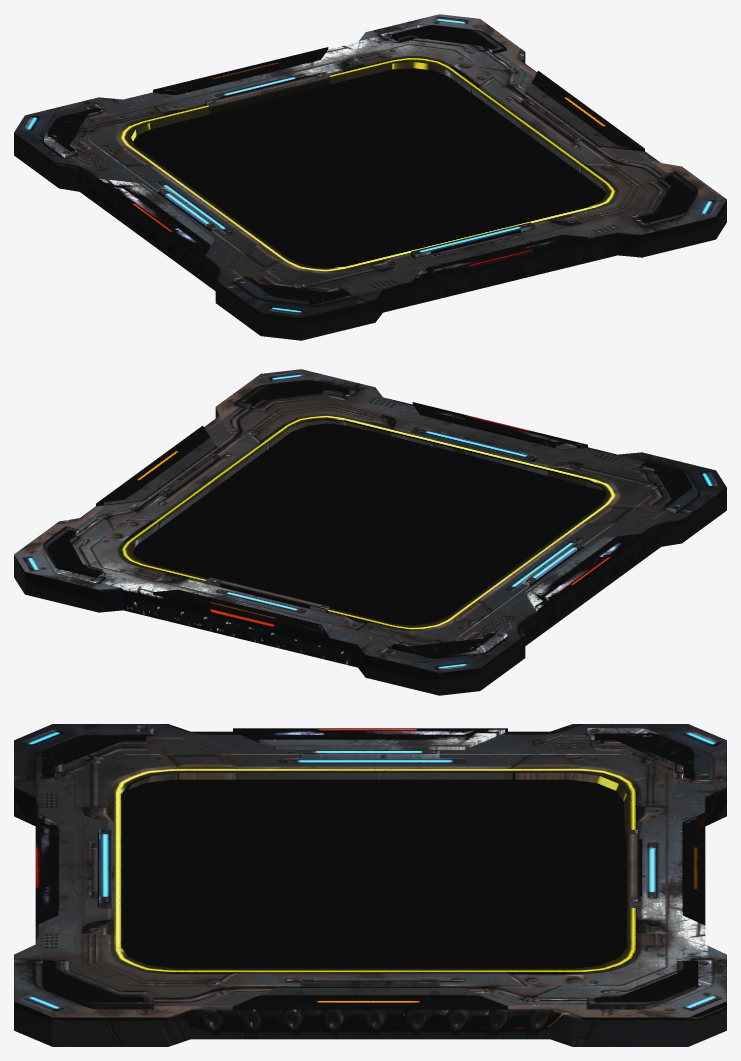
Rendered from boxGeometry.glb.
3 renders of one model, top to bottom at view 1: azimuth 30°, elevation 25°; view 2: azimuth 150°, elevation 25°; view 3: azimuth 270°, elevation 25°, orthographic. The views are drawn at different scales.
Parts seen in each view (by area): view 1: Body, Black, Emit; view 2: Body, Black, Emit; view 3: Body, Black, Emit.
Part boxes in pixels (x1=…): Body: x1=14, y1=14, x2=726, y2=340; Black: x1=133, y1=68, x2=605, y2=267; Emit: x1=44, y1=25, x2=697, y2=304; Body: x1=14, y1=369, x2=726, y2=695; Black: x1=132, y1=423, x2=605, y2=625; Emit: x1=43, y1=380, x2=697, y2=657; Body: x1=14, y1=724, x2=726, y2=1046; Black: x1=124, y1=779, x2=626, y2=968; Emit: x1=35, y1=728, x2=705, y2=1009.
Bounding box in the file's own units: 1.86 × 0.0969 × 1.91.
2 materials, 1 textured.
